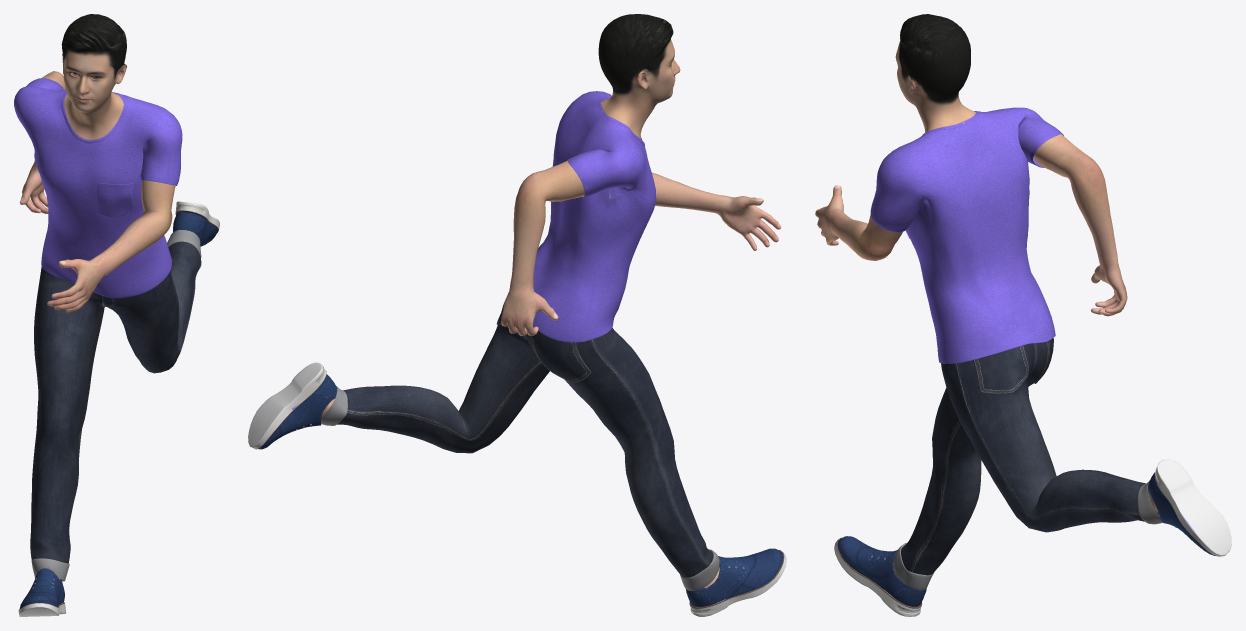
File: runner.glb
3 renders of one model, left to right at view 1: azimuth 30°, elevation 25°; view 2: azimuth 150°, elevation 25°; view 3: azimuth 270°, elevation 25°, orthographic. The views are drawn at different scales.
Visible parts, largest first — view 1: clothing.001, Head.001, Body.001, shoe_L.001; view 2: clothing.001, Body.001, shoe_L.001, Head.001; view 3: clothing.001, Body.001, shoe_L.001, Head.001.
Part boxes in pixels (x1,y1,x2,y2): clothing.001: [14, 78, 201, 581]; Head.001: [61, 14, 127, 139]; Body.001: [19, 71, 175, 579]; shoe_L.001: [18, 201, 219, 616]; clothing.001: [321, 91, 719, 591]; Body.001: [321, 160, 780, 588]; shoe_L.001: [248, 362, 786, 616]; Head.001: [598, 14, 680, 138]; clothing.001: [870, 107, 1162, 590]; Body.001: [815, 134, 1158, 573]; shoe_L.001: [834, 459, 1231, 616]; Head.001: [895, 14, 975, 132].
Size of the model in its own units: 1.11 by 1.72 by 1.04.
Materials: 6 (5 with a texture image).
